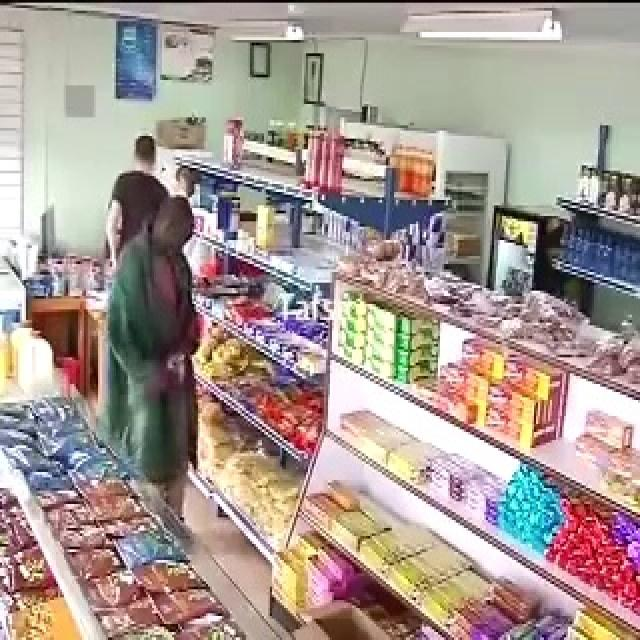normal: (115, 114, 178, 200)
shoplifting: (97, 175, 257, 500)
